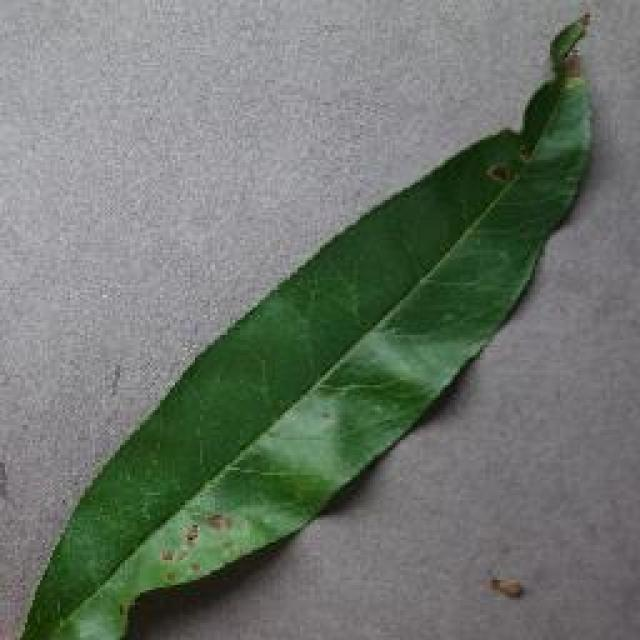Bacterial_spot: (100, 473, 240, 585), (274, 352, 366, 452)
